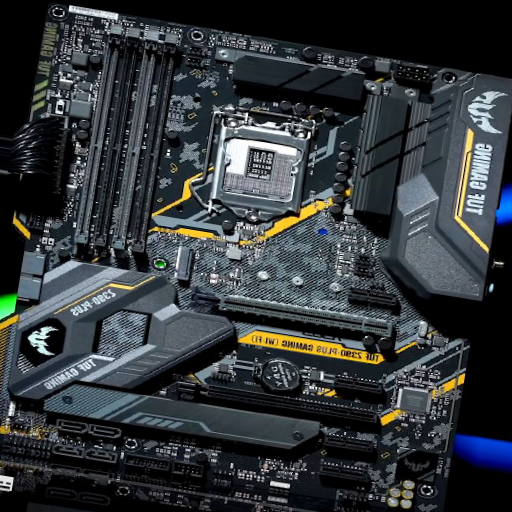CPU: (209, 105, 316, 223)
GPU: (176, 374, 379, 426), (185, 287, 394, 337)
MOTHERBOARD: (8, 5, 479, 512)
RAM: (72, 24, 180, 254)
SSD: (172, 246, 193, 281)
